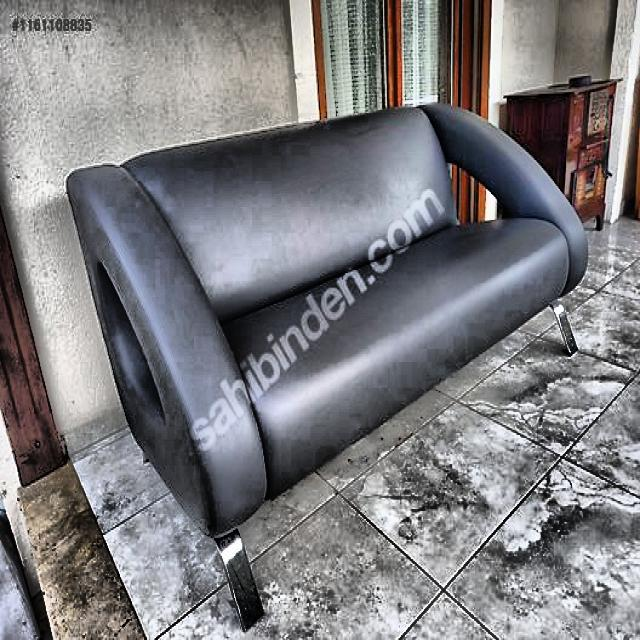sofa: (66, 93, 591, 630)
